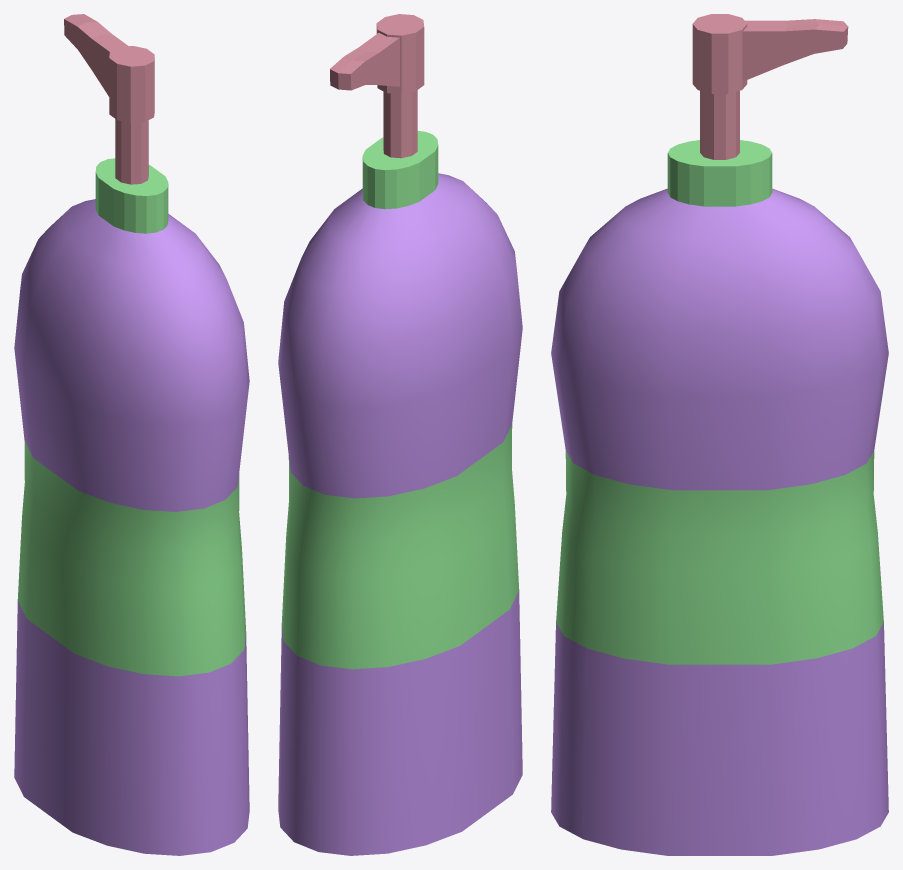
Rendered from Gel.FBX.
3 renders of one model, left to right at view 1: azimuth 30°, elevation 25°; view 2: azimuth 150°, elevation 25°; view 3: azimuth 270°, elevation 25°, orthographic. The views are drawn at different scales.
Visible parts, largest first — view 1: Gel; view 2: Gel; view 3: Gel.
Part boxes in pixels (bbox=[...]): Gel: bbox=[14, 14, 249, 855]; Gel: bbox=[278, 14, 522, 855]; Gel: bbox=[551, 14, 888, 855].
Size of the model in its own units: 0.4604 by 1.94 by 0.7529.
